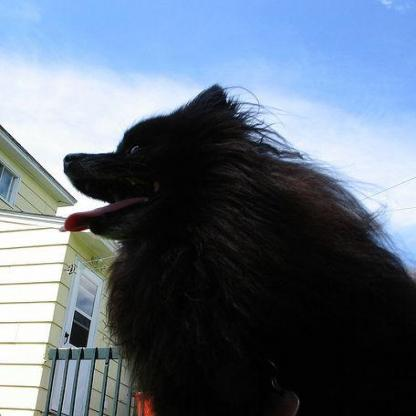Pomeranian: (60, 84, 413, 414)
